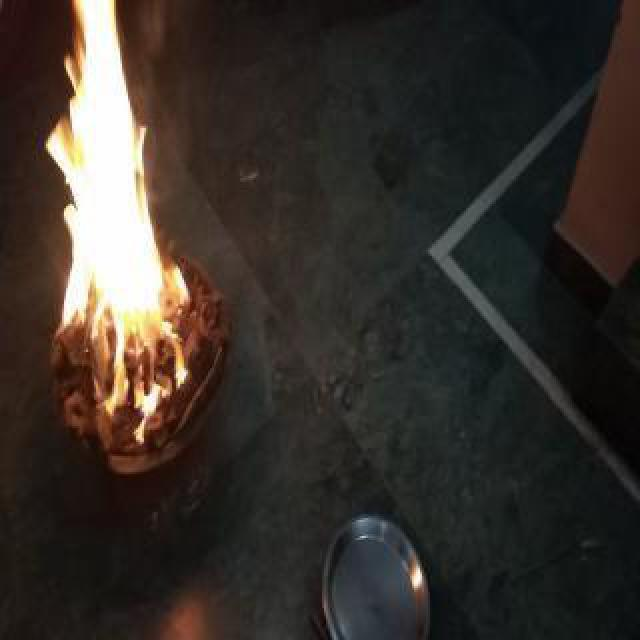Fire: (44, 0, 192, 404)
